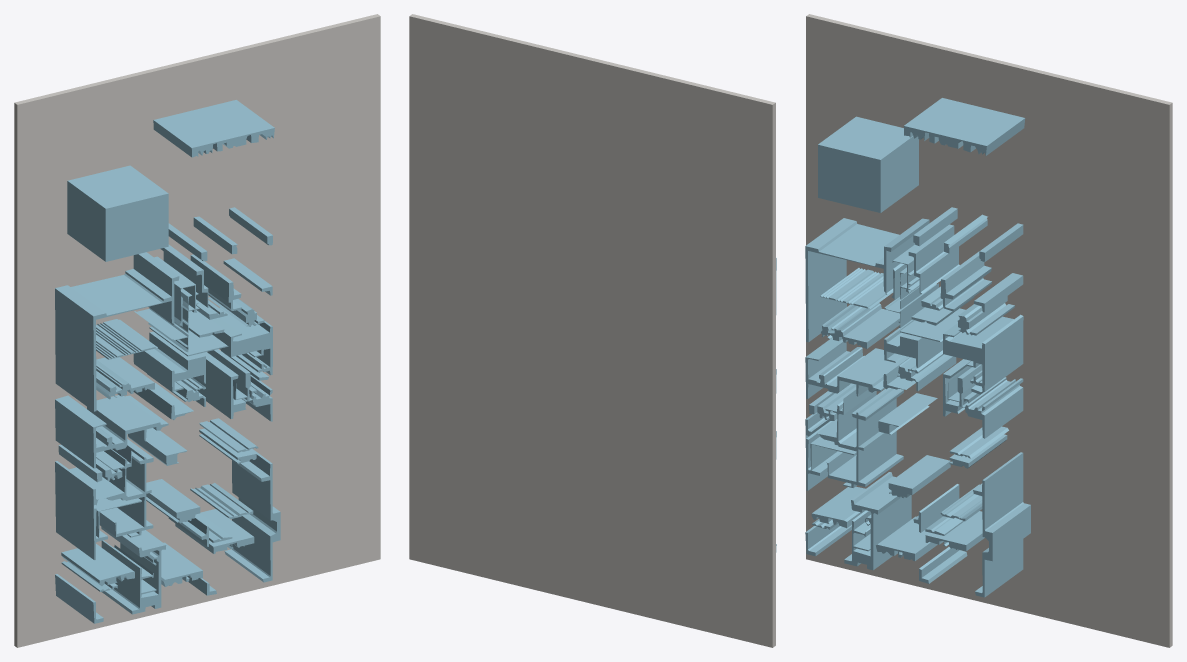
The picture shows the model from 3 angles, left to right: view 1: azimuth 30°, elevation 25°; view 2: azimuth 150°, elevation 25°; view 3: azimuth 330°, elevation 25°; orthographic projection.
Visible parts, largest first — view 1: world; view 2: world; view 3: world.
Boxes of the visible parts, x1,y1,x2,y2 form: world: [14, 14, 380, 647]; world: [409, 14, 776, 647]; world: [805, 14, 1172, 647].
Bounding box in the file's own units: 10.23 × 14.61 × 2.02.
